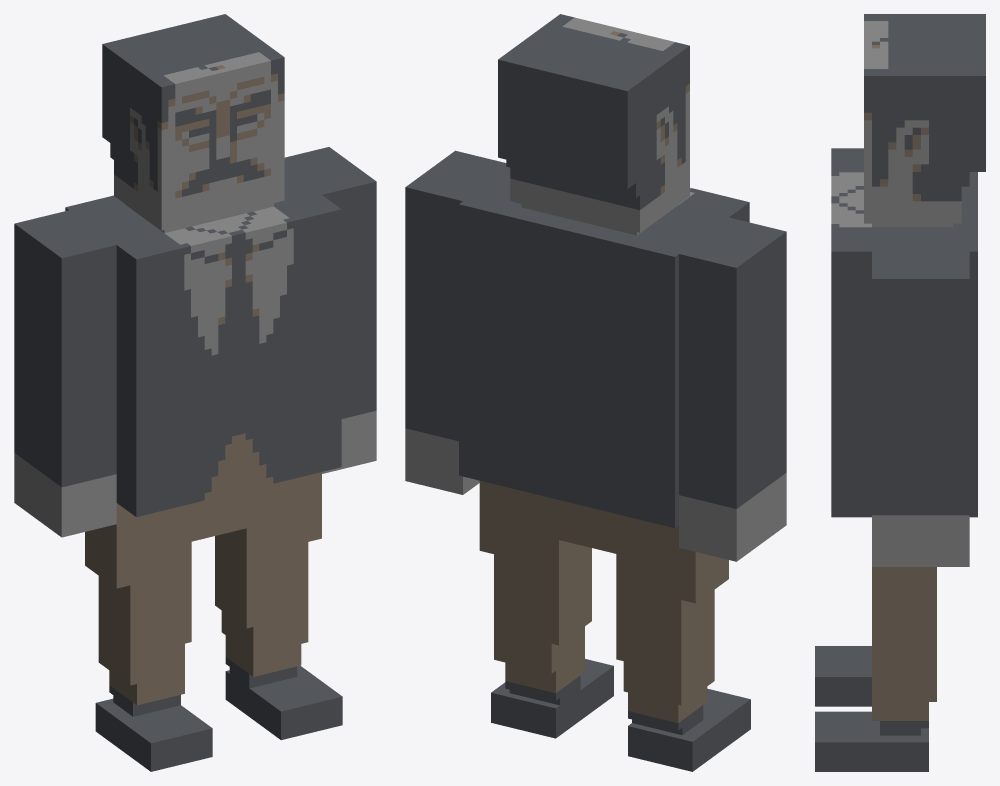
File: husband.obj
3 views of the same model, side by side, from view 1: azimuth 30°, elevation 25°; view 2: azimuth 150°, elevation 25°; view 3: azimuth 270°, elevation 25° (orthographic). The views are drawn at different scales.
Size of the model in its own units: 46 by 92 by 21.
1 material, 1 textured.
